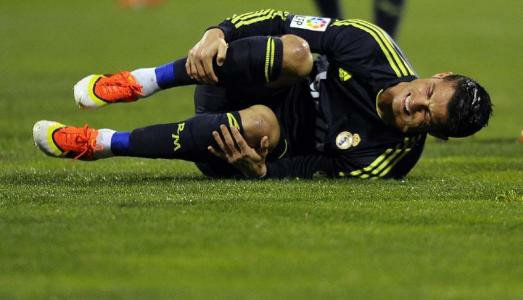fall: (23, 9, 491, 185)
